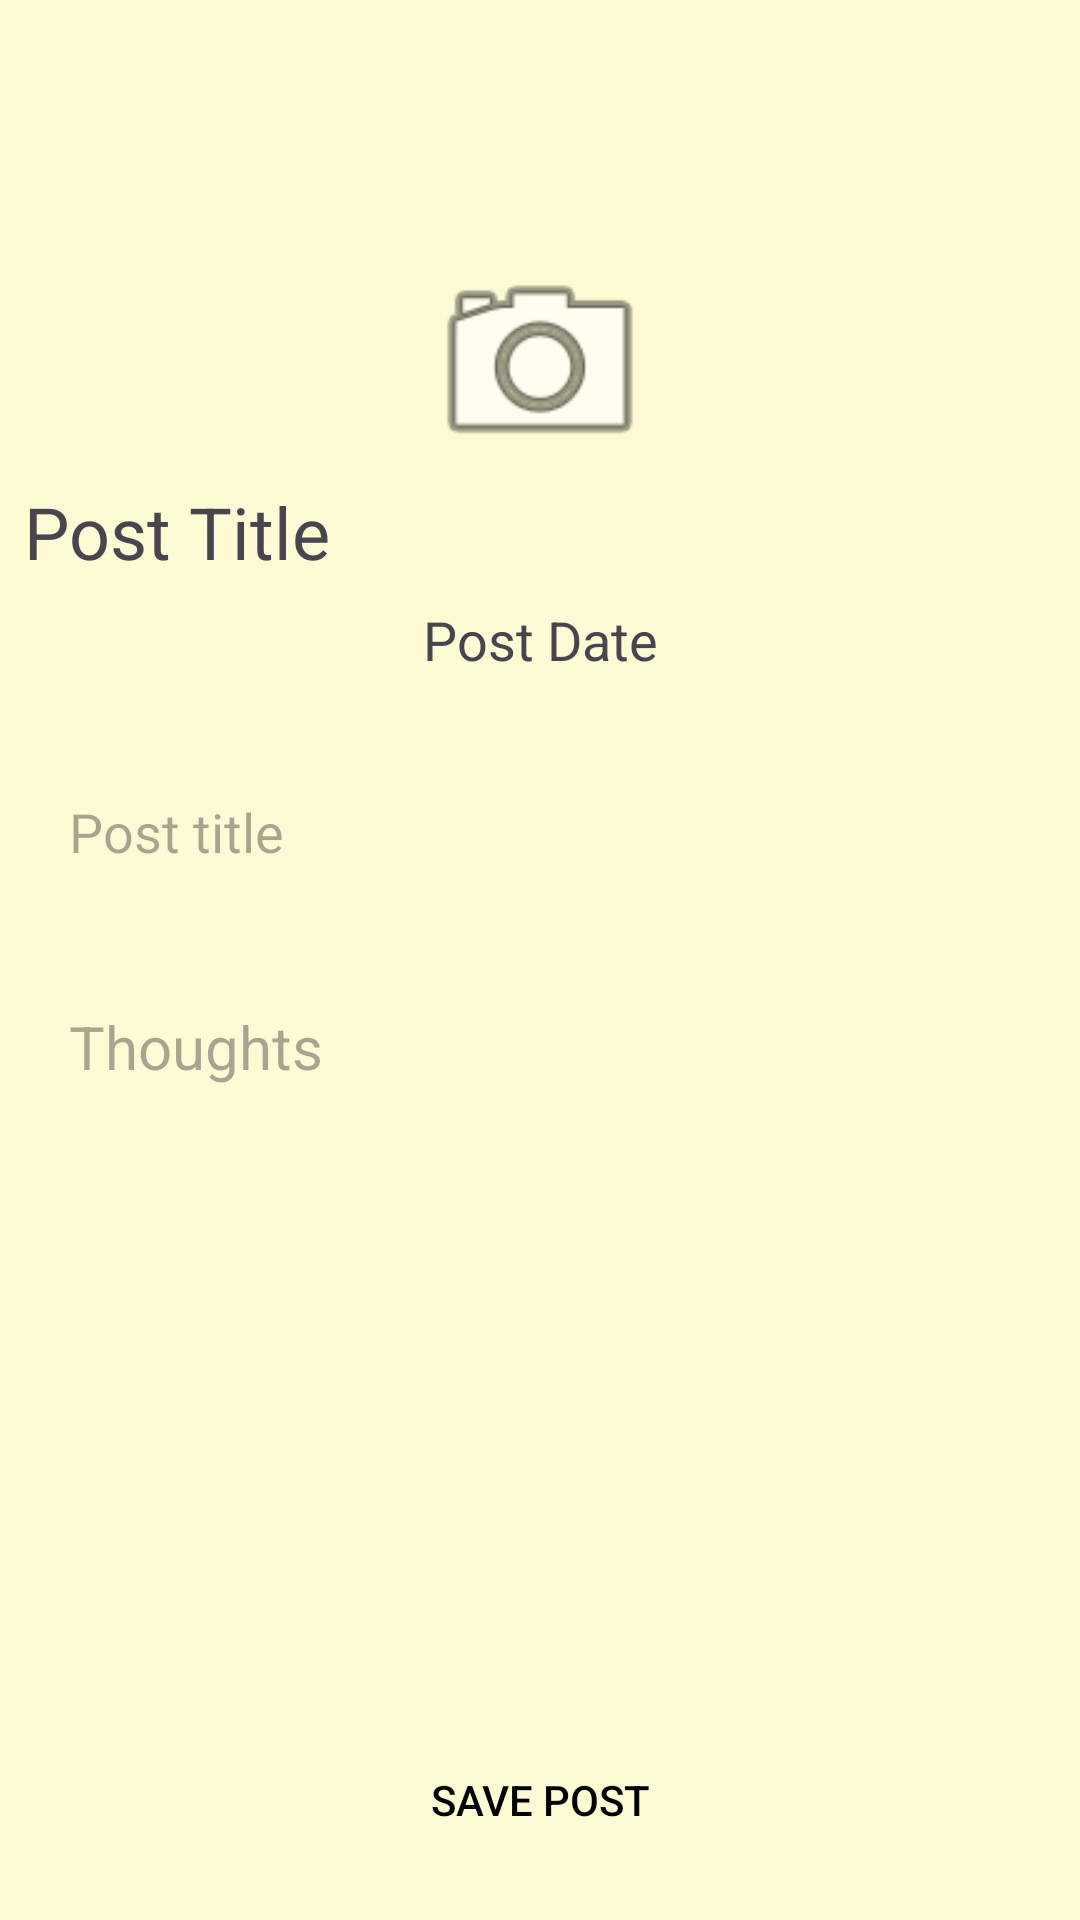

Icon bounding boxes for this 1080x1920 phone screenshot, format {"left": x1, "top": y1, "right": x2, "bottom": y2}:
camera: {"left": 447, "top": 285, "right": 633, "bottom": 433}
